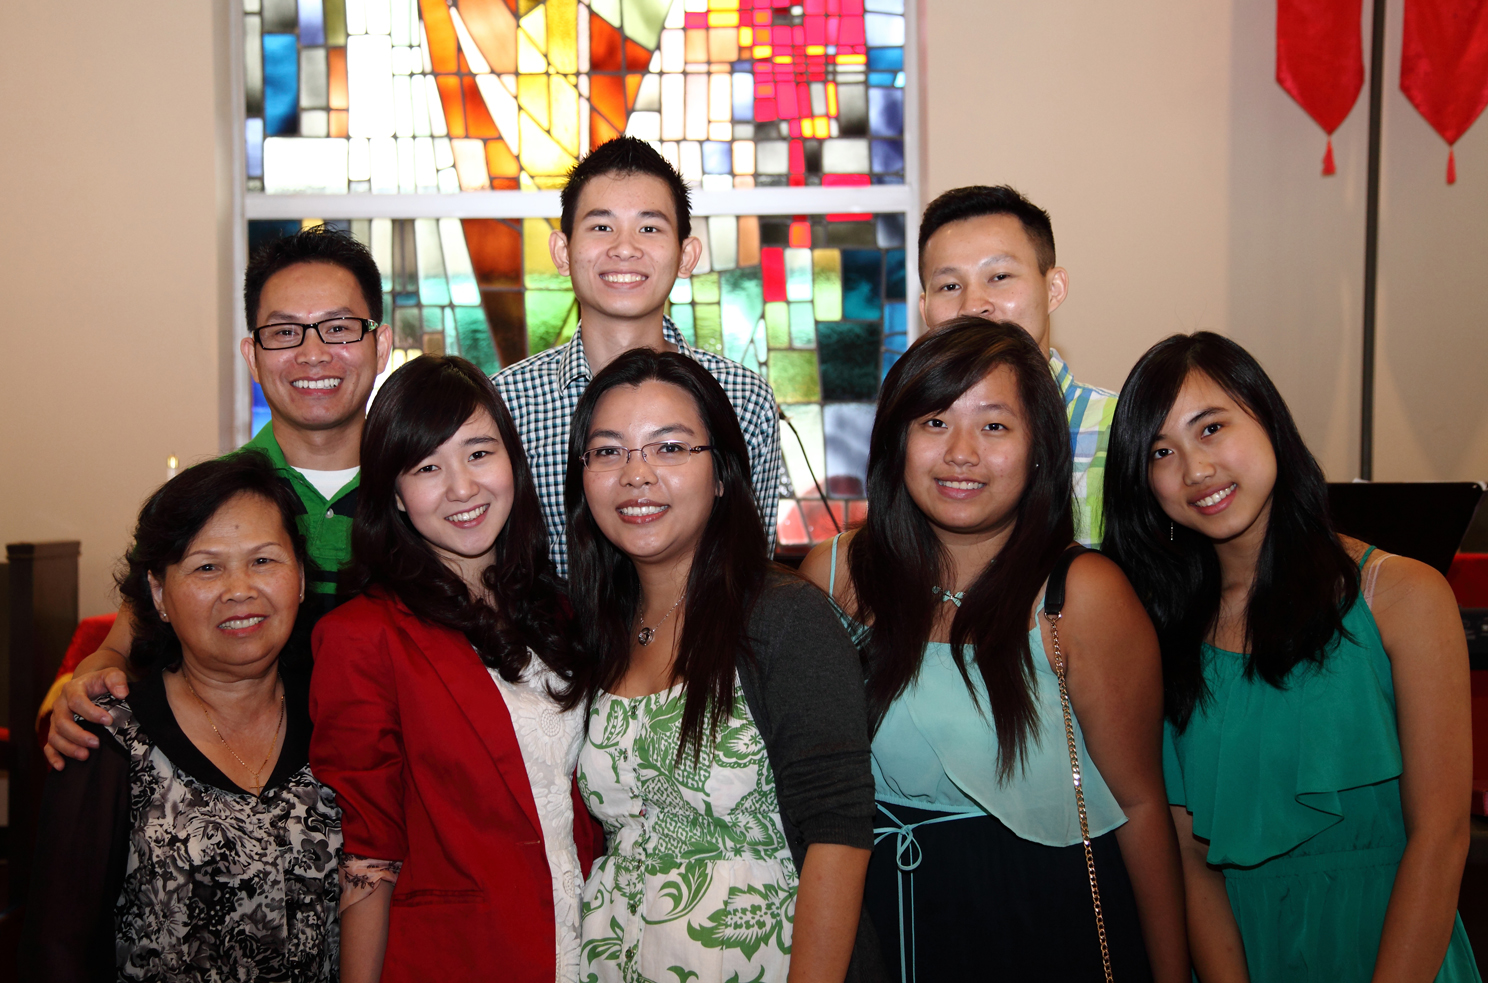face: (573, 387, 720, 558), (1139, 367, 1285, 539), (156, 505, 303, 663), (895, 369, 1037, 526), (246, 272, 383, 425), (563, 177, 686, 315), (391, 417, 515, 552), (928, 226, 1048, 356)
